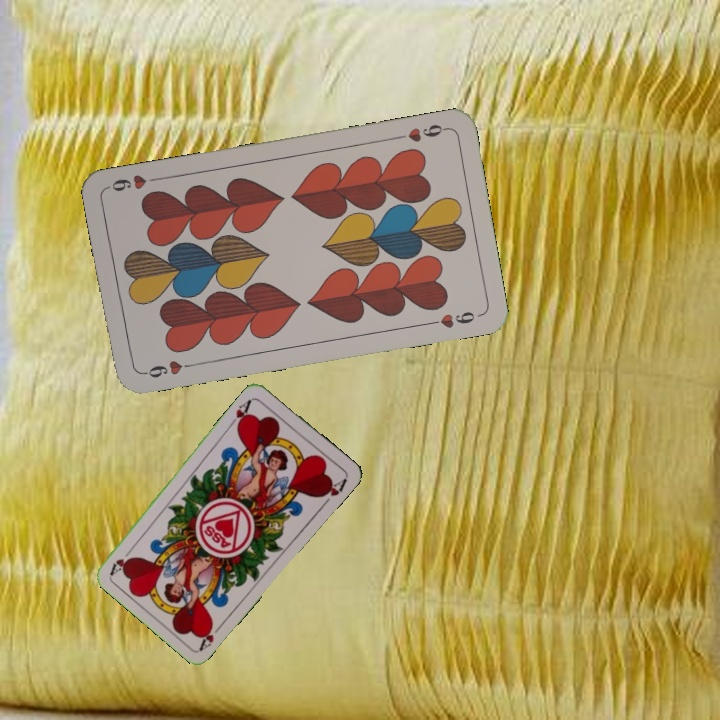H9: (391, 120, 450, 145), (138, 356, 197, 380)
HA: (225, 395, 256, 432), (196, 618, 227, 652)
